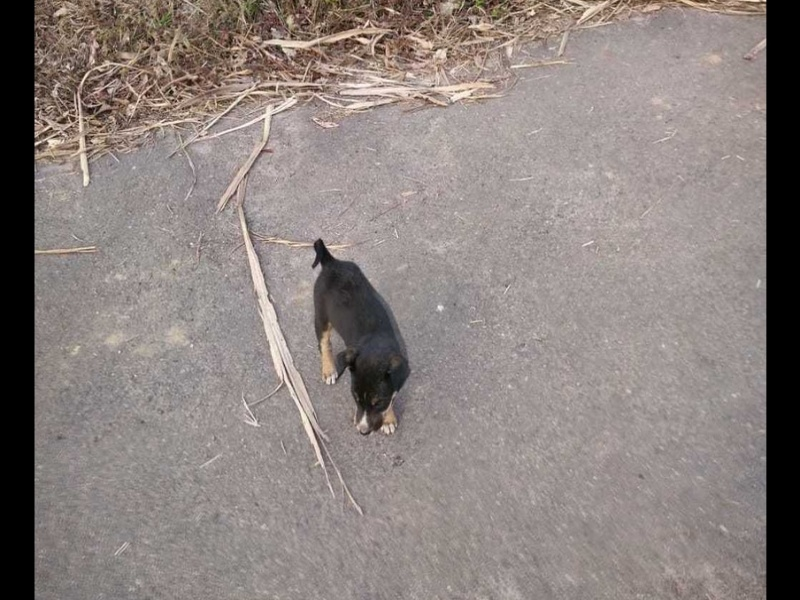dog: (308, 230, 411, 442)
